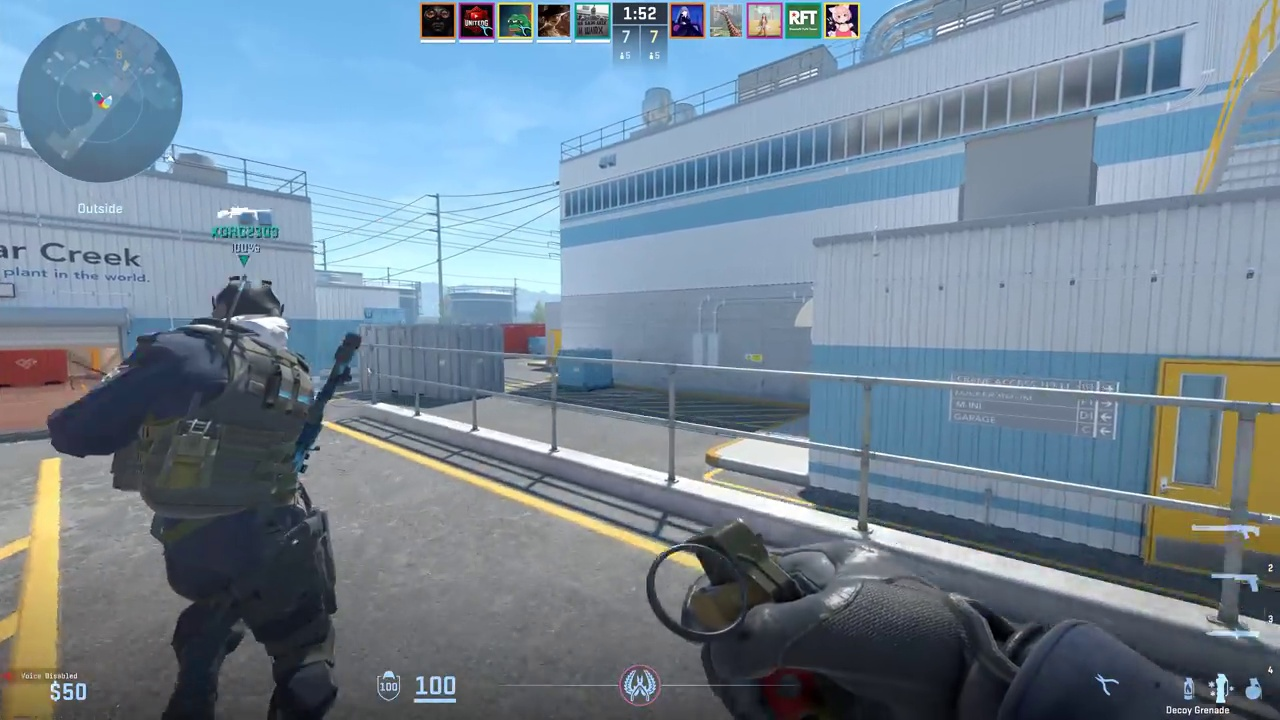CT: (76, 277, 341, 716)
